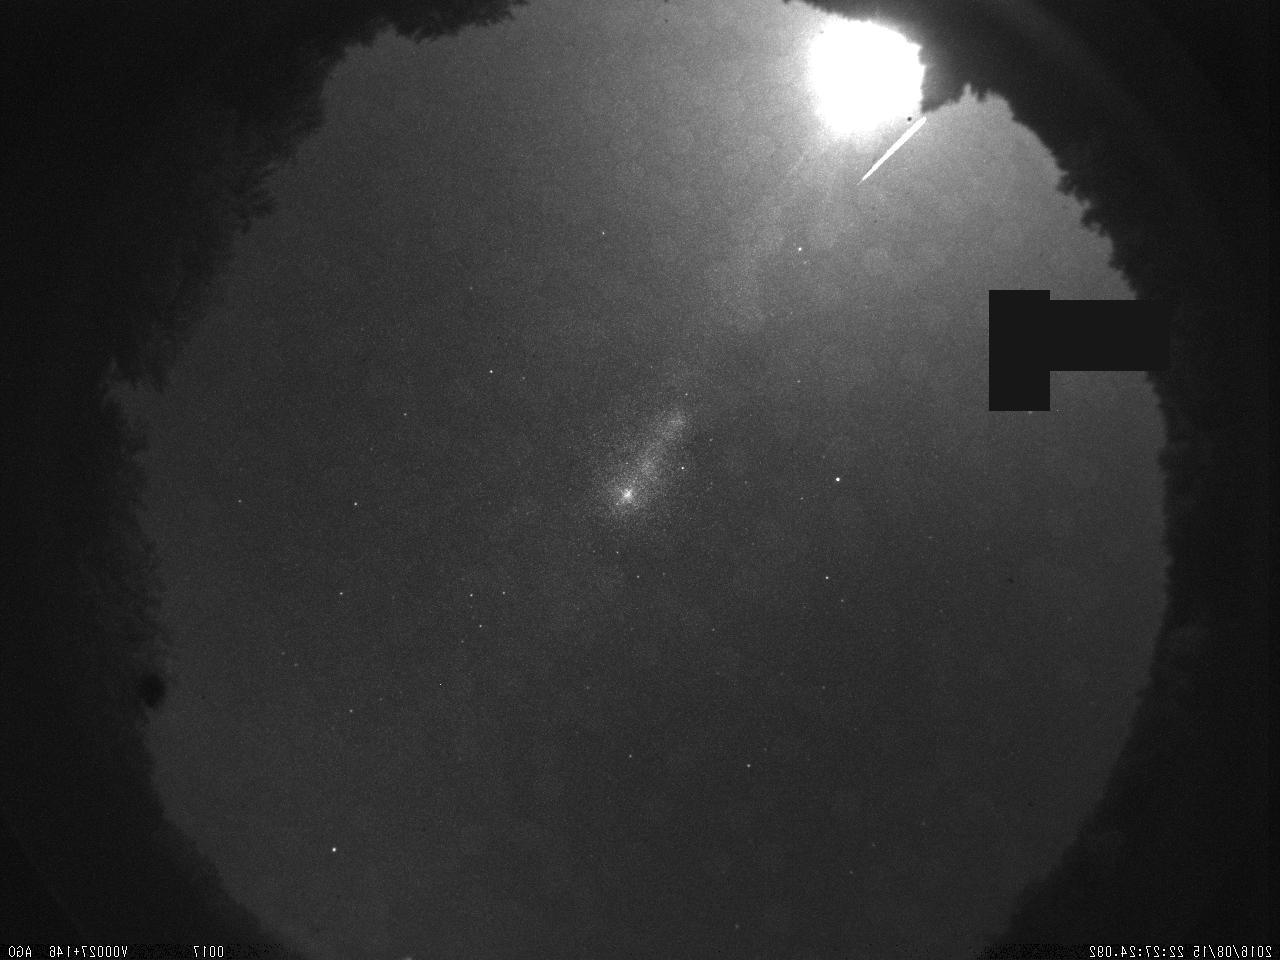meteor: (846, 114, 934, 191)
